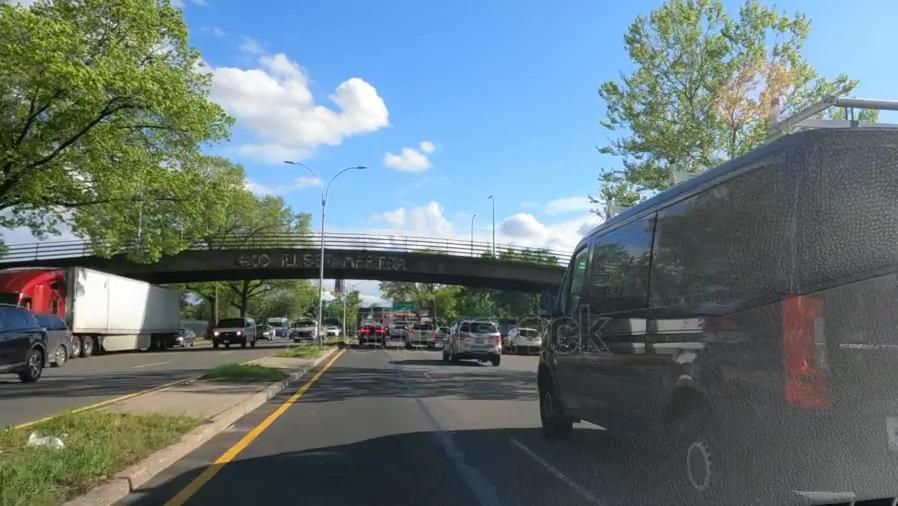car: (446, 320, 502, 367), (510, 327, 540, 352), (405, 324, 435, 345), (358, 323, 386, 344)
van: (540, 211, 898, 417), (216, 318, 256, 346)
wheel: (651, 400, 734, 506), (529, 369, 567, 436)
